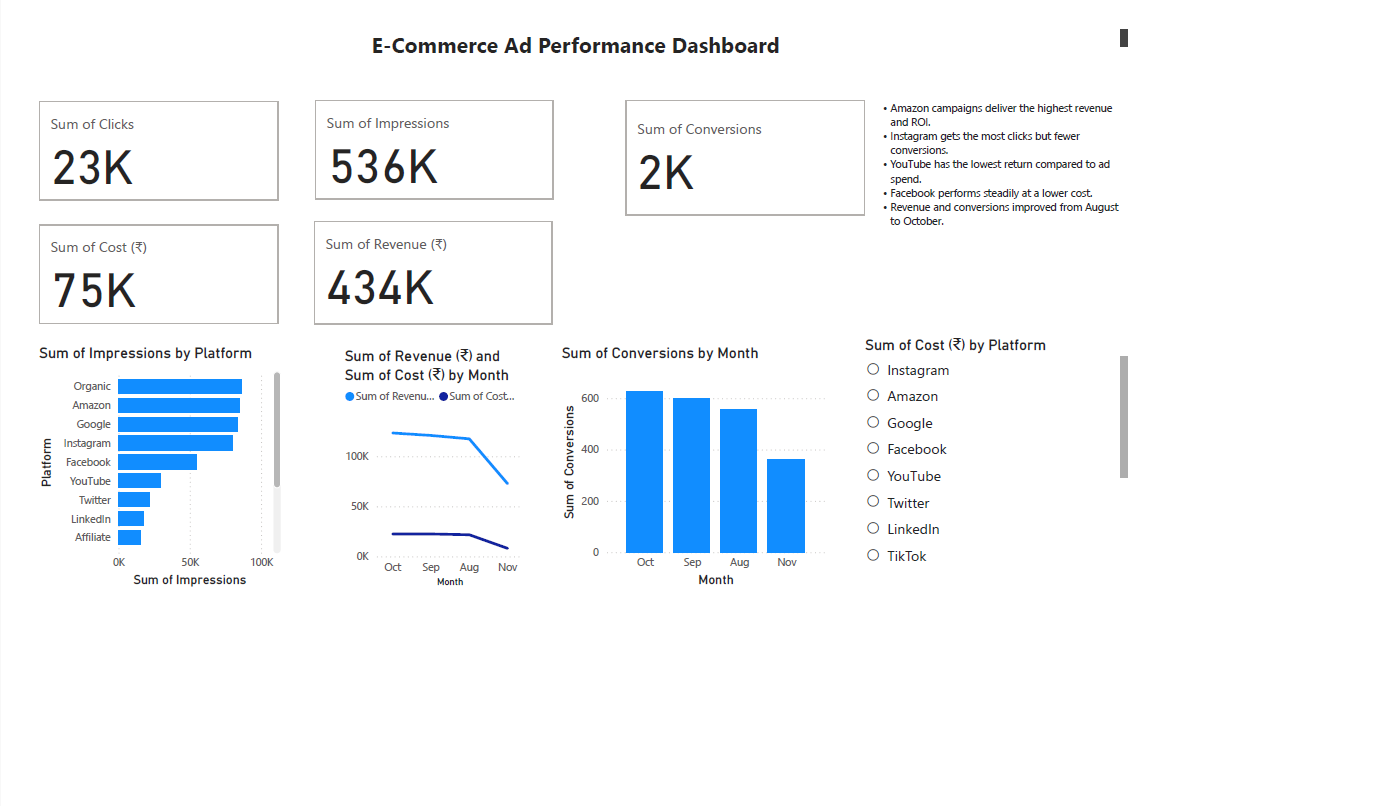

What the dashboard file says about the page in this screenshot:
{"tool":"powerbi","page":{"name":"Page 1","canvas":[1280,720],"ordinal":0},"visuals":[{"type":"cardVisual","fields":{"Data":["Sum(Sheet1.Clicks)"]},"box":[9.5,81,281,122.6],"z":0},{"type":"cardVisual","fields":{"Data":["Sum(Sheet1.Impressions)"]},"box":[321.4,79.8,279.8,122.6],"z":1000},{"type":"cardVisual","fields":{"Data":["Sum(Sheet1.Cost (₹))"]},"box":[9.5,220.2,281,122.6],"z":2000},{"type":"clusteredBarChart","fields":{"Y":["Sum(Sheet1.Impressions)"],"Category":["Sheet1.Platform"]},"box":[10,360,282.9,280],"z":3000},{"type":"clusteredColumnChart","fields":{"Category":["Sheet1.Month"],"Y":["Sum(Sheet1.Conversions)"]},"box":[600,360,307.1,280],"z":4000},{"type":"listSlicer","fields":{"Values":["Sheet1.Platform"]},"box":[942.9,350,307.1,270.2],"z":5000},{"type":"lineChart","fields":{"Category":["Sheet1.Month"],"Y":["Sum(Sheet1.Revenue (₹))","Sum(Sheet1.Cost (₹))"]},"box":[354.3,361.4,211.4,278.6],"z":6000},{"type":"cardVisual","fields":{"Data":["Sum(Sheet1.Conversions)"]},"box":[672.6,79.8,281,140.5],"z":6001},{"type":"cardVisual","fields":{"Data":["Sum(Sheet1.Revenue (₹))"]},"box":[320.2,216.7,279.8,126.2],"z":6002},{"type":"textbox","box":[0,0,1250,35.7],"z":6003},{"type":"textbox","box":[953.6,79.8,296.4,177.4],"z":6004}]}

Visuals, with their boxes in screenshot pixels (x1, y1, x2, y2), scaled from the page's 1280x720 canvas onto the 1400x806 screenshot:
cardVisual - Sum(Sheet1.Clicks): select_region(10, 91, 318, 228)
cardVisual - Sum(Sheet1.Impressions): select_region(352, 89, 658, 227)
cardVisual - Sum(Sheet1.Cost (₹)): select_region(10, 247, 318, 384)
clusteredBarChart - Sum(Sheet1.Impressions) x Sheet1.Platform: select_region(11, 403, 320, 716)
clusteredColumnChart - Sheet1.Month x Sum(Sheet1.Conversions): select_region(656, 403, 992, 716)
listSlicer - Sheet1.Platform: select_region(1031, 392, 1367, 694)
lineChart - Sheet1.Month x Sum(Sheet1.Revenue (₹)): select_region(388, 405, 619, 716)
cardVisual - Sum(Sheet1.Conversions): select_region(736, 89, 1043, 247)
cardVisual - Sum(Sheet1.Revenue (₹)): select_region(350, 243, 656, 384)
textbox: select_region(0, 0, 1367, 40)
textbox: select_region(1043, 89, 1367, 288)
